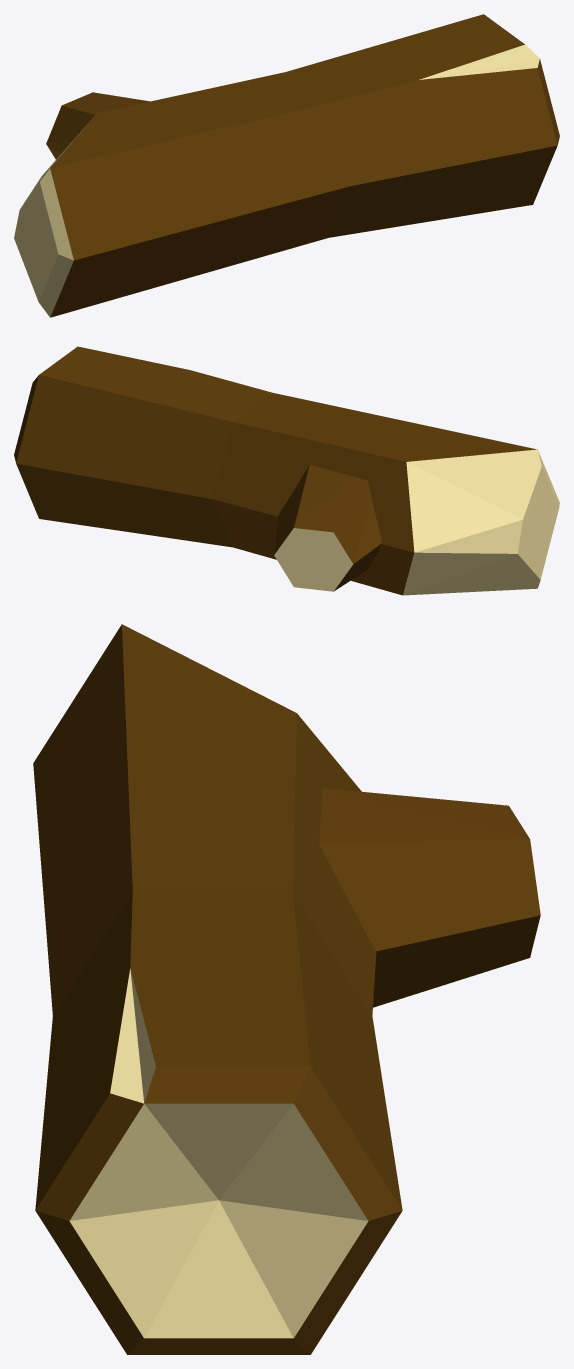
The model's file is LogA.fbx.
3 views of the same model, one above another, from view 1: azimuth 30°, elevation 25°; view 2: azimuth 150°, elevation 25°; view 3: azimuth 270°, elevation 25° (orthographic). The views are drawn at different scales.
Visible parts, largest first — view 1: SketchUp.002; view 2: SketchUp.002; view 3: SketchUp.002.
Part boxes in pixels (x1=…): SketchUp.002: x1=14, y1=14, x2=559, y2=317; SketchUp.002: x1=14, y1=346, x2=559, y2=595; SketchUp.002: x1=33, y1=624, x2=540, y2=1354.
Size of the model in its own units: 241 by 71.23 by 113.
